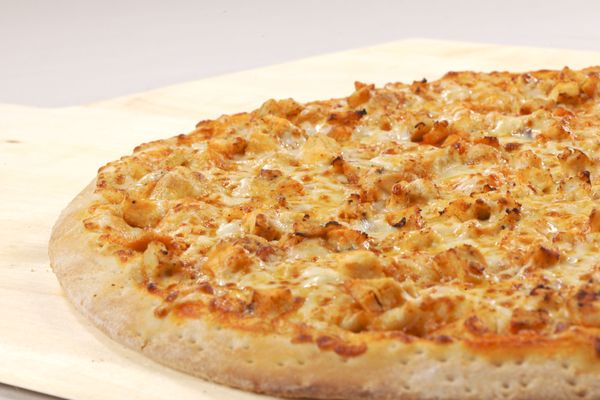sandwich: (57, 66, 599, 393)
